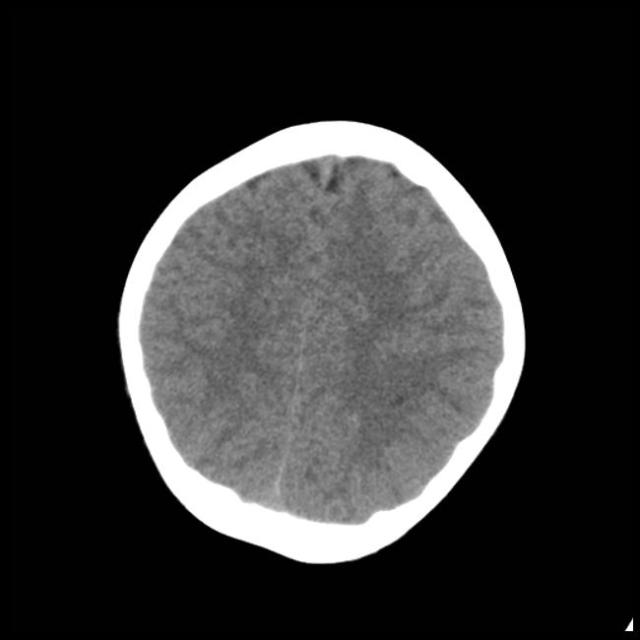lesion: (115, 118, 529, 565)
